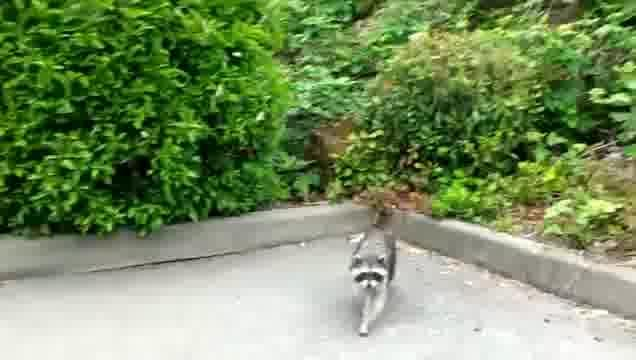raccoon: (349, 225, 401, 340)
